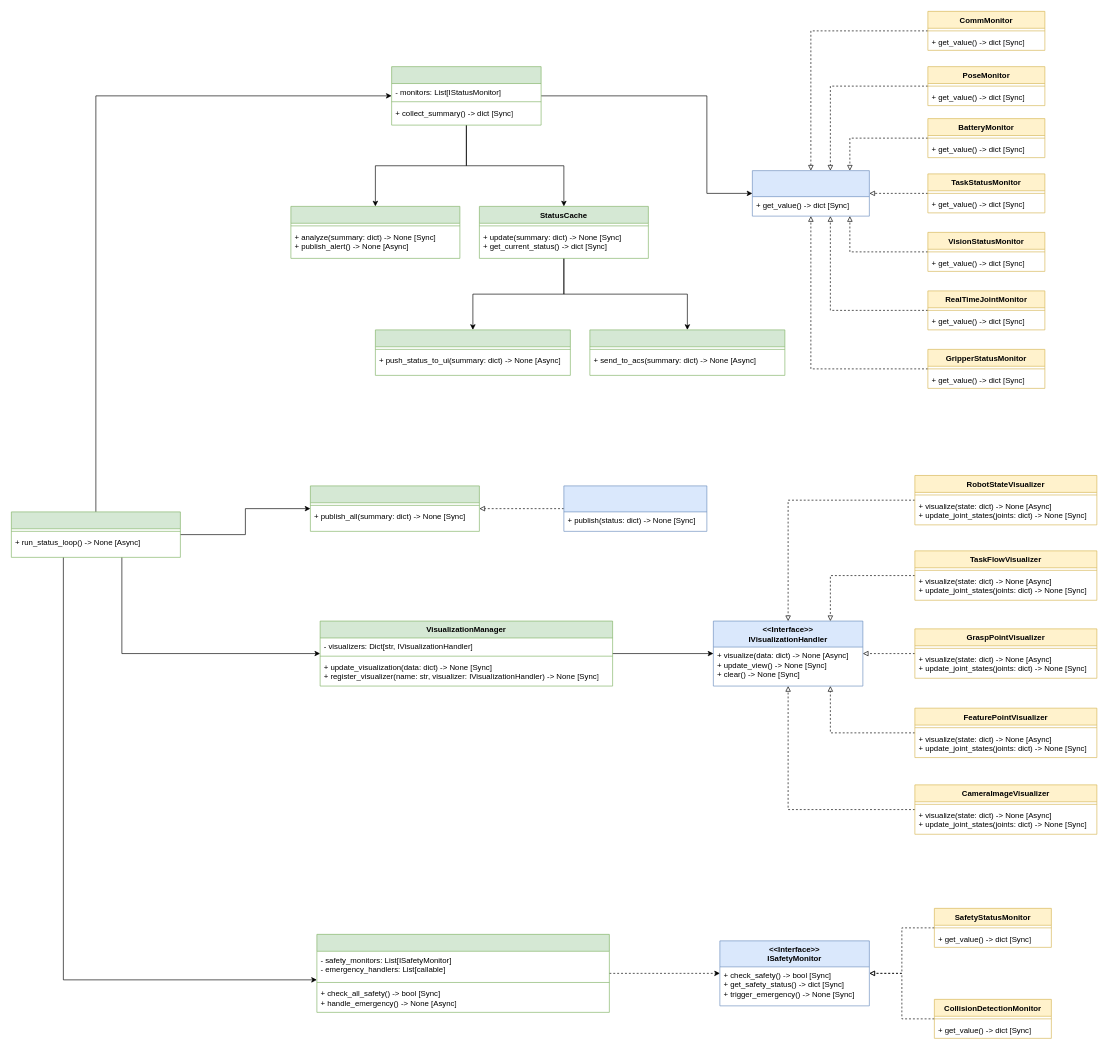
The diagram is 1108 pixels wide and 1052 high, and some of its shapes have lost their labels. Here are the shapes that lost their labels. From the top down, the box of each, then its label:
(391, 66, 541, 125): StatusAggregator
(752, 170, 869, 216): <<Interface>> IStatusMonitor
(290, 206, 460, 258): StatusAnomalyDetector
(375, 329, 570, 375): WebUISyncInterface
(589, 329, 785, 375): ACSReportInterface
(310, 485, 479, 531): StatusPublisher
(563, 485, 707, 531): <<Interface>> IStatusPublisher
(11, 511, 180, 557): StatusPublisherNode
(316, 934, 609, 1012): SafetyManager
